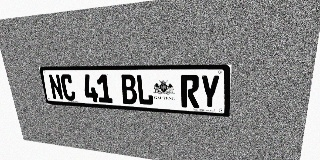1: (95, 74, 113, 103)
4: (82, 74, 99, 102)
B: (120, 74, 138, 104)
C: (60, 74, 76, 101)
L: (136, 74, 154, 105)
N: (48, 74, 64, 100)
R: (180, 75, 199, 108)
Y: (200, 75, 220, 109)
